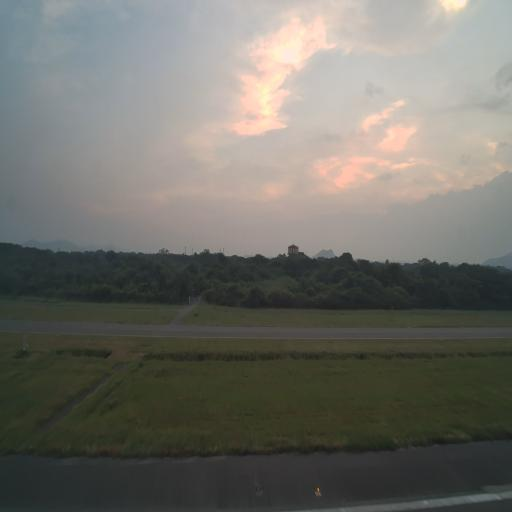on: (314, 482, 324, 501)
